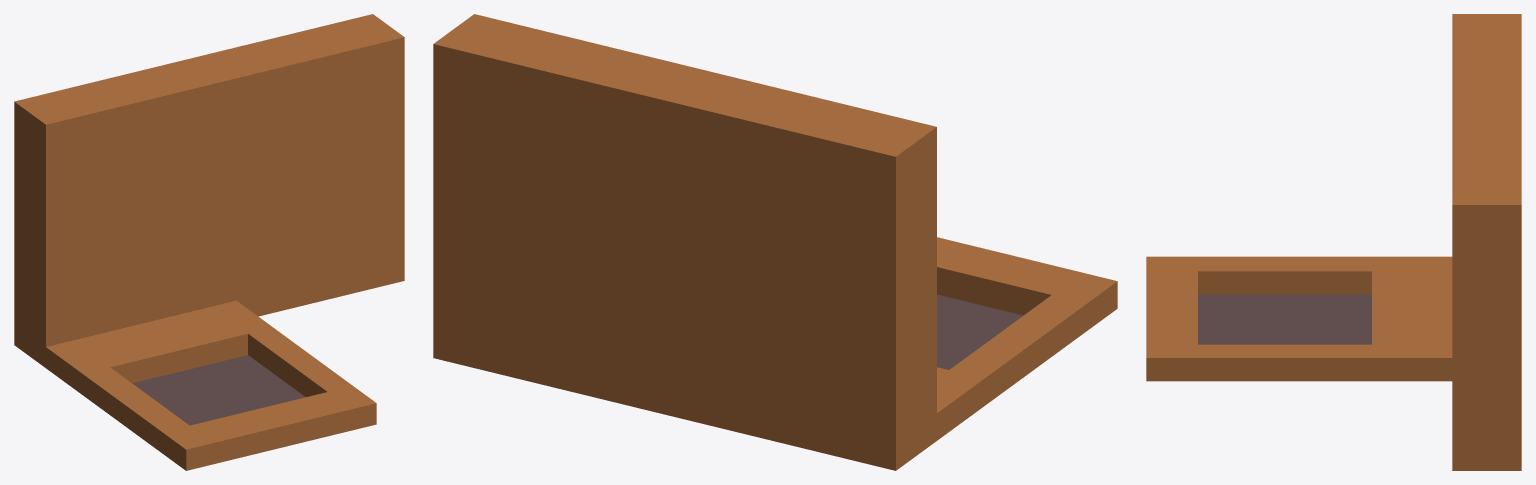
The model's file is fire.glb.
The picture shows the model from 3 angles, left to right: view 1: azimuth 30°, elevation 25°; view 2: azimuth 150°, elevation 25°; view 3: azimuth 270°, elevation 25°; orthographic projection. The views are drawn at different scales.
Visible parts, largest first — view 1: imagetostl_mesh; view 2: imagetostl_mesh; view 3: imagetostl_mesh.
Boxes of the visible parts, x1=… form: imagetostl_mesh: x1=14, y1=14, x2=404, y2=470; imagetostl_mesh: x1=433, y1=14, x2=1117, y2=470; imagetostl_mesh: x1=1146, y1=14, x2=1521, y2=470.
Bounding box in the file's own units: 117 × 75.75 × 96.94.
